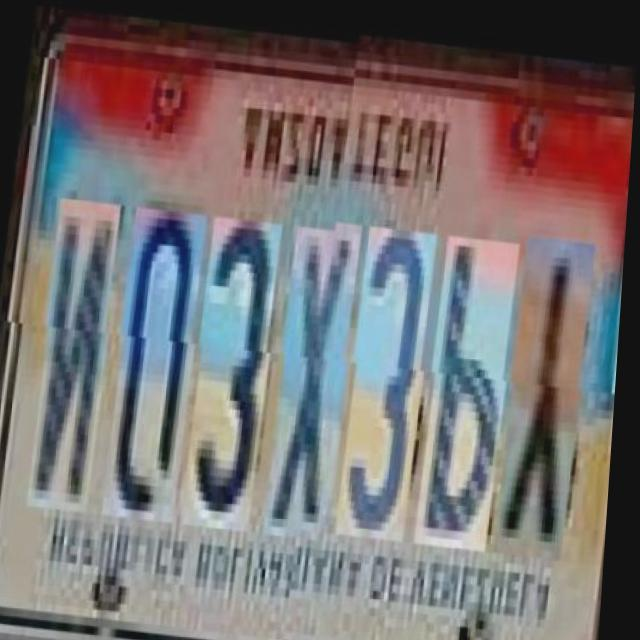0: (108, 196, 210, 509)
3: (340, 217, 439, 531), (187, 204, 285, 517)
n: (32, 189, 124, 502)
p: (419, 225, 522, 538)
x: (269, 211, 364, 524)
y: (498, 223, 599, 546)
